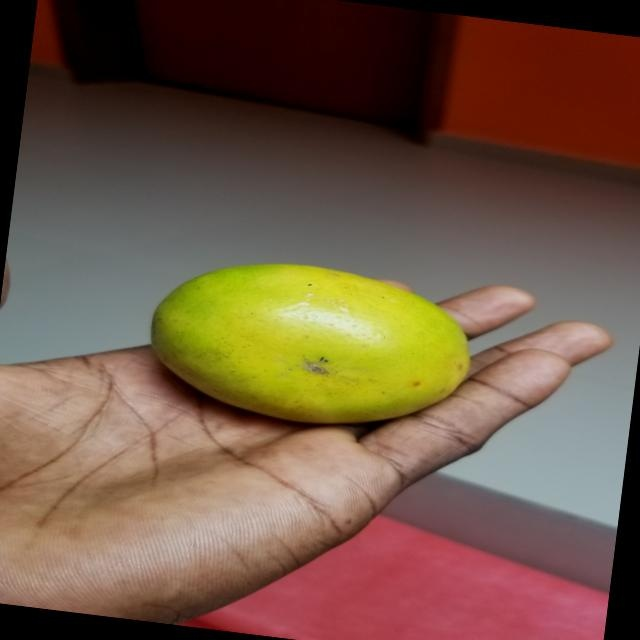agrume: (139, 240, 476, 440)
